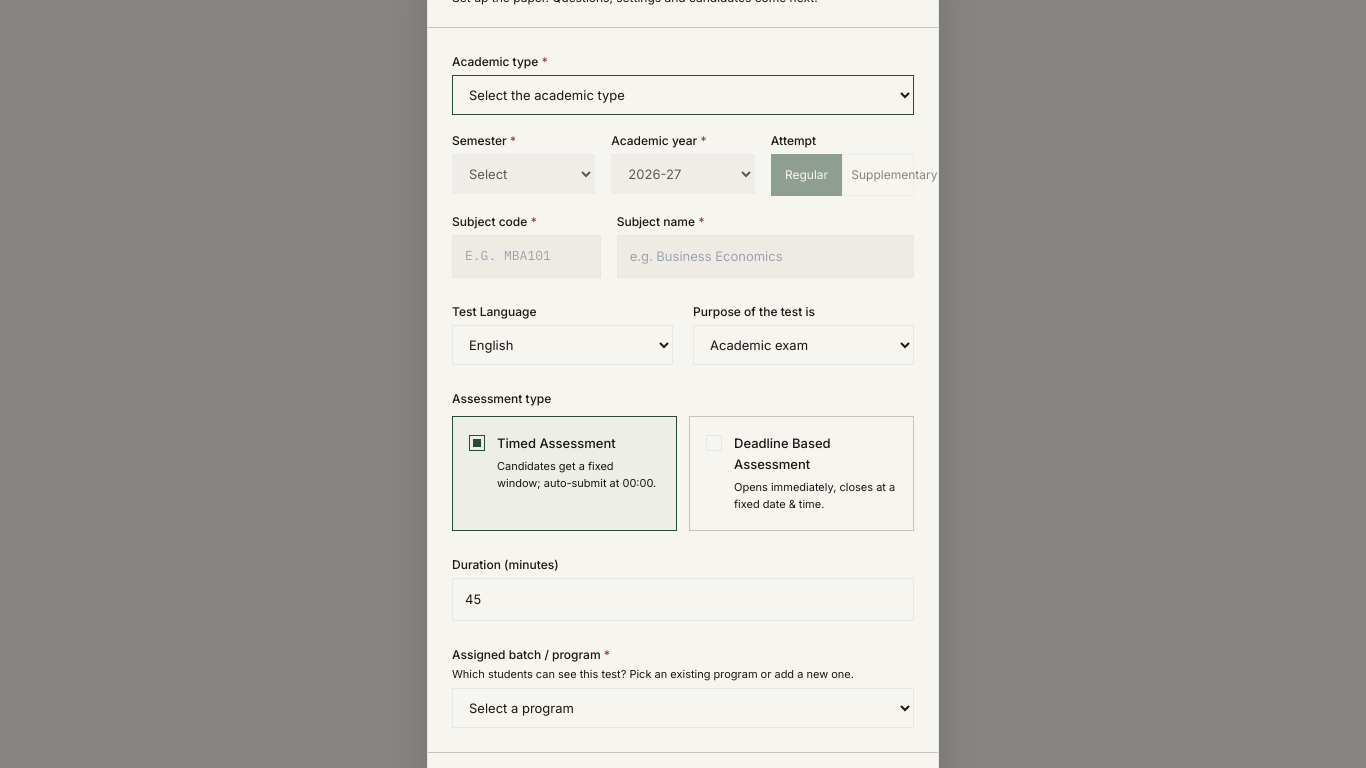
Test case: CreateTestModal › shows the database's refusal when the form check missed a clash
Select "Mid Term" in the dropdown labelled "Academic type *" at (683, 95), box [452,75,914,115]
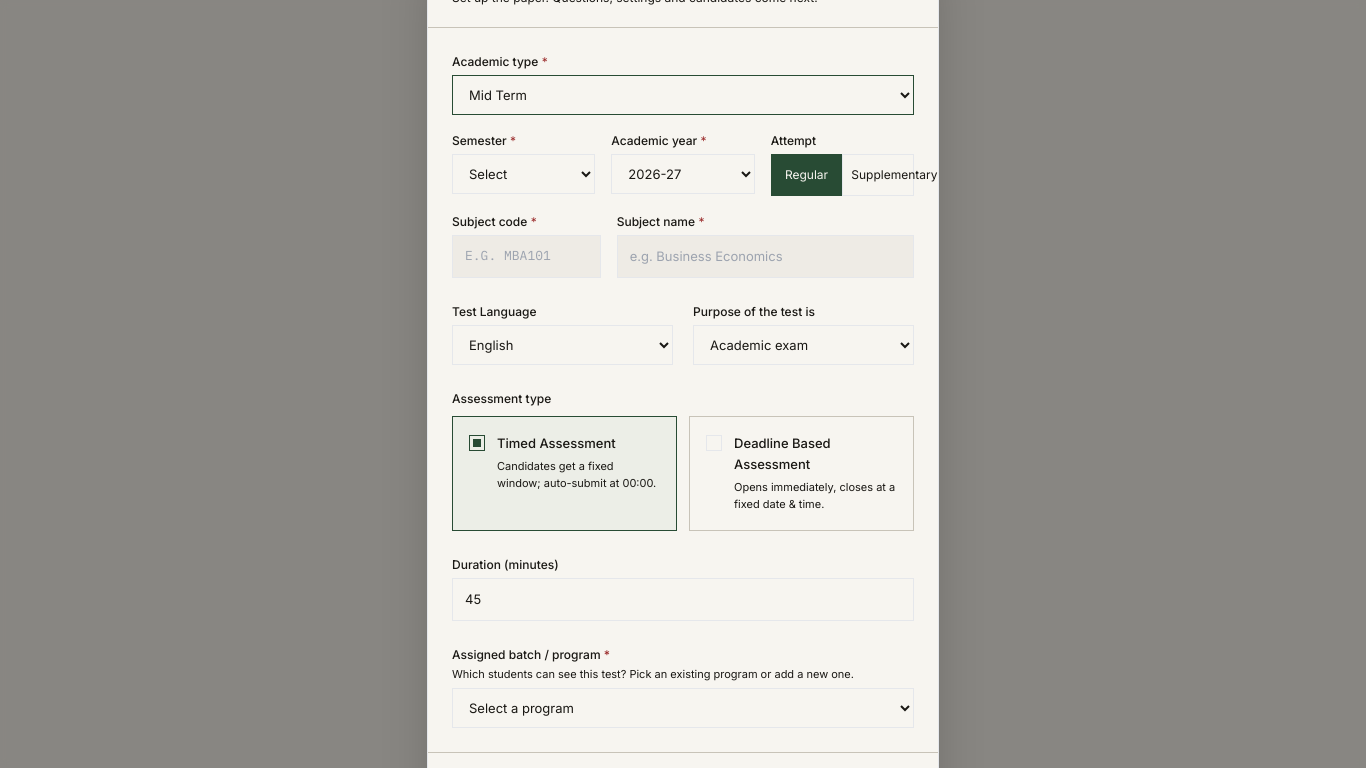
Select "Semester 1" in the dropdown labelled "Semester *" at (524, 174), box [452,154,595,194]
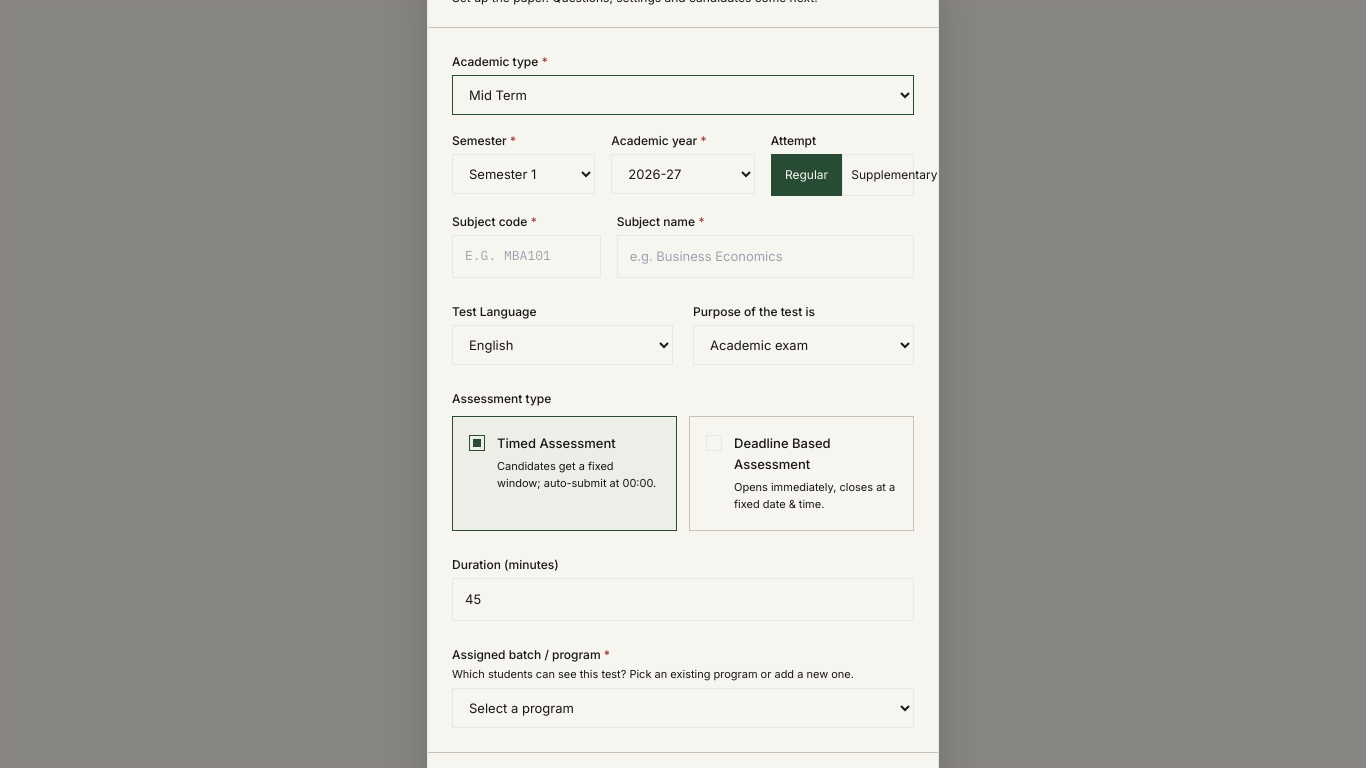
Select "2026-27" in the dropdown labelled "Academic year *" at (683, 174), box [611,154,755,194]
Type "MBA101" into the field labelled "Subject code *" at (526, 256), box [452,235,601,278]
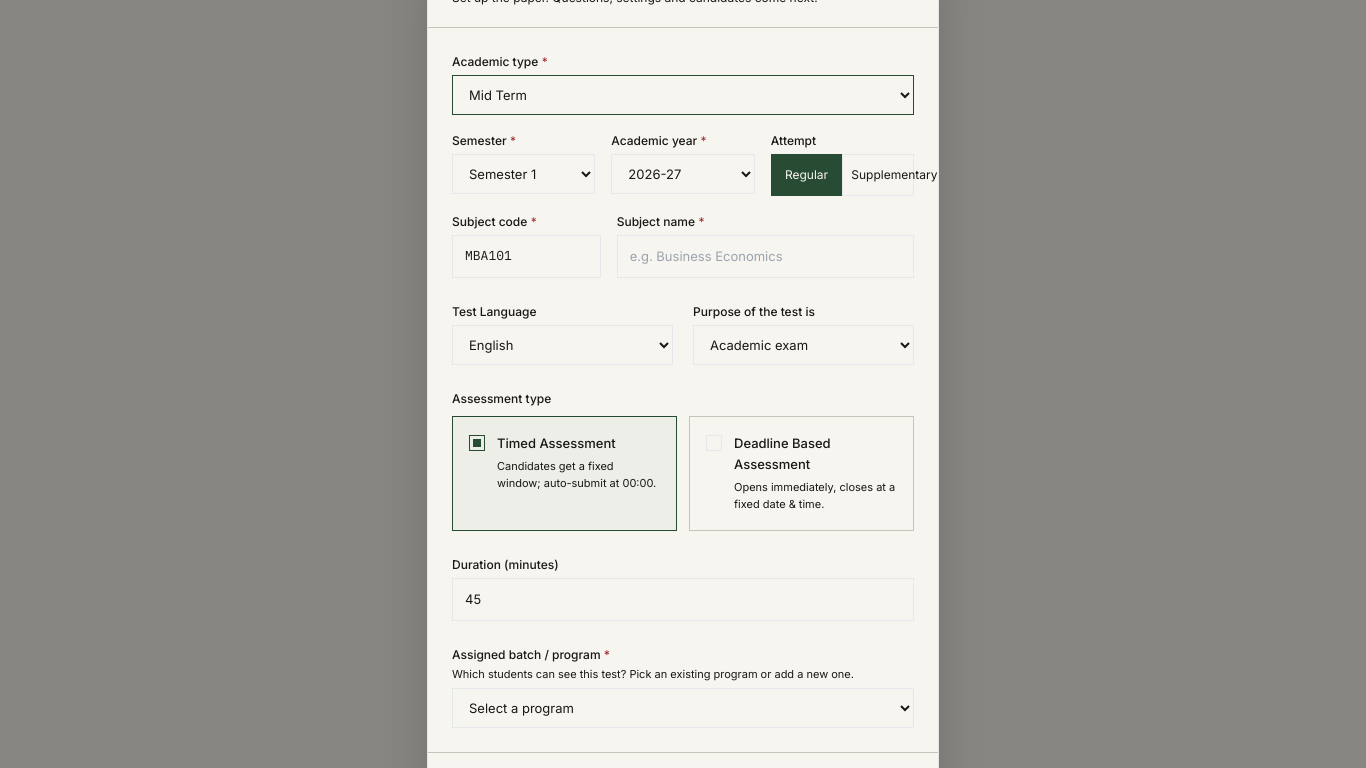
Type "Marketing" into the field labelled "Subject name *" at (765, 256), box [617,235,914,278]
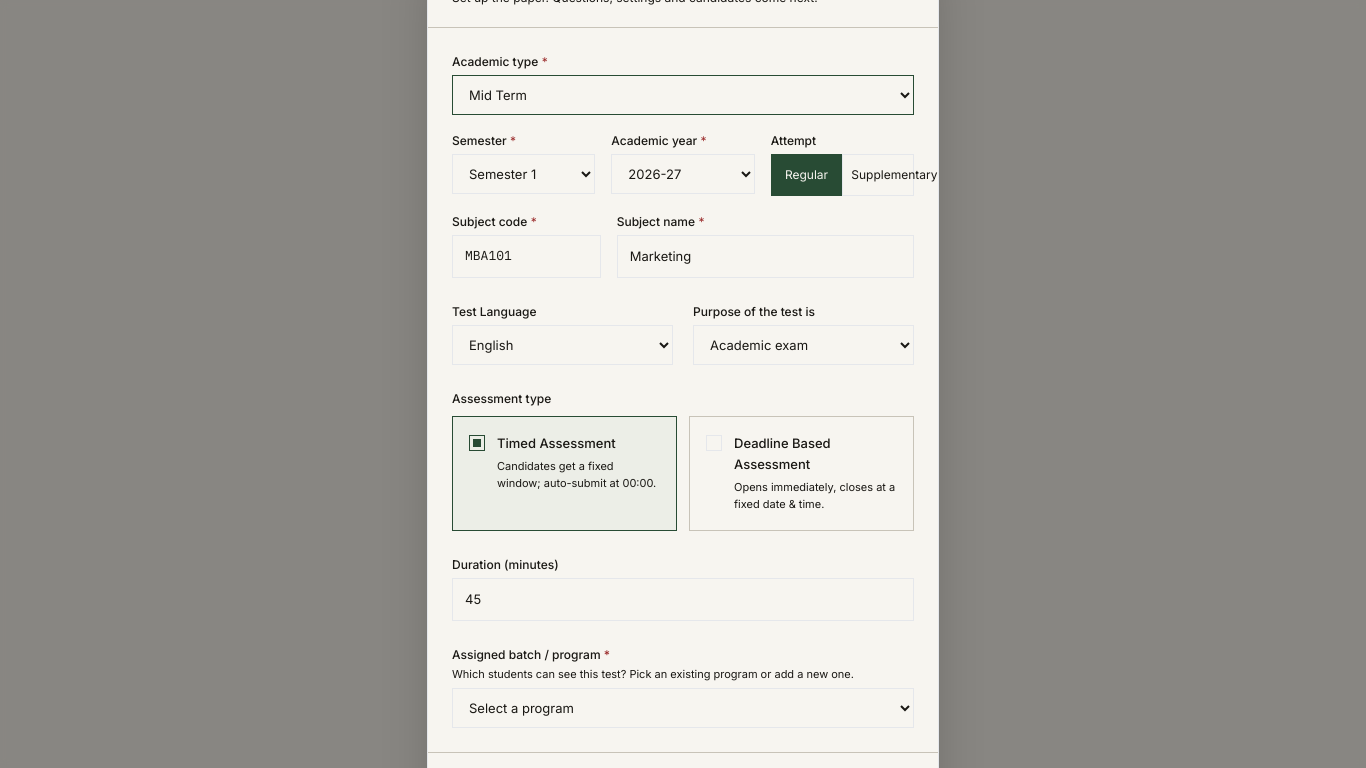
Select "MBA · Sem I · 40 students" in the dropdown labelled "Assigned batch / program *" at (683, 708), box [452,688,914,728]
(page scrolled)
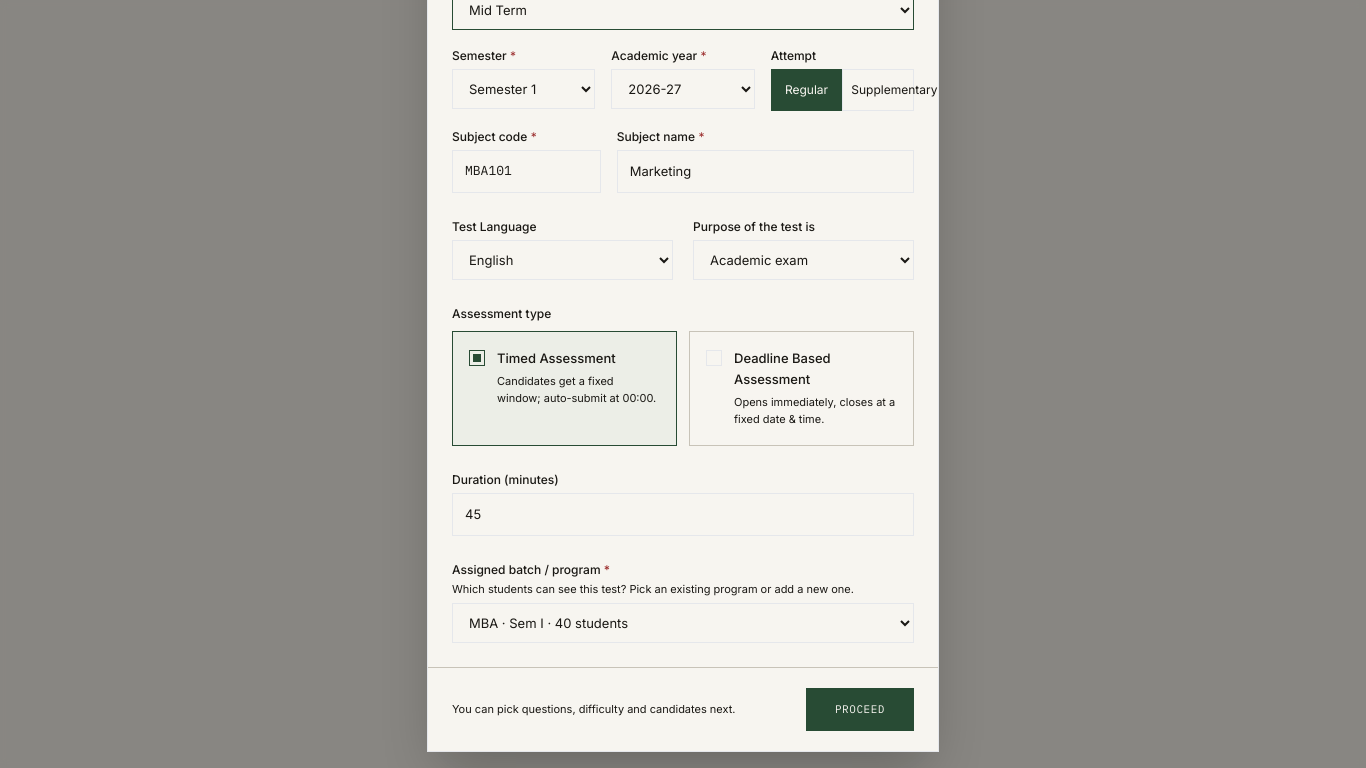
Expected: the button "Proceed" is enabled
Click the button "Proceed" at (860, 709), box [806,688,914,731]
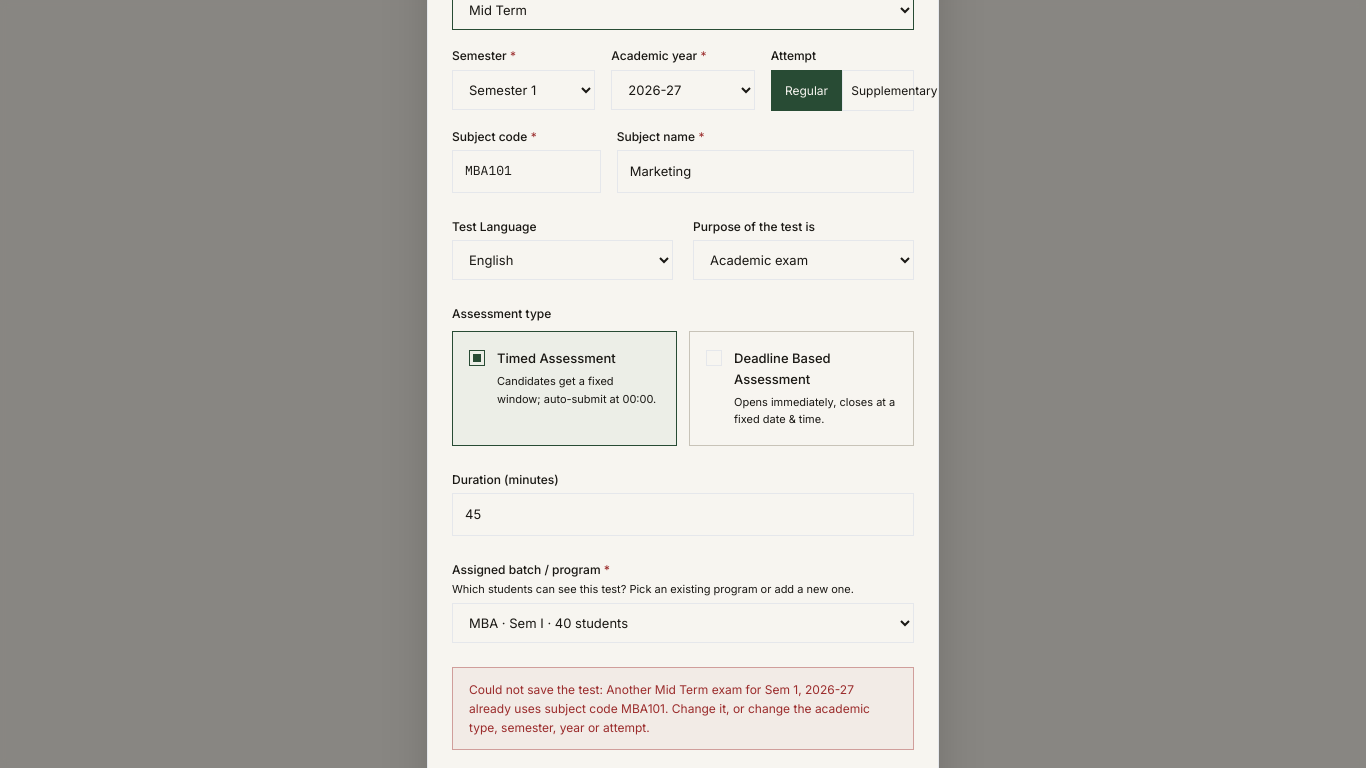
Expected: the text "Another Mid Term exam for Sem 1, 2026-27 already uses subject code MBA101" is shown, [469,682,870,735]
